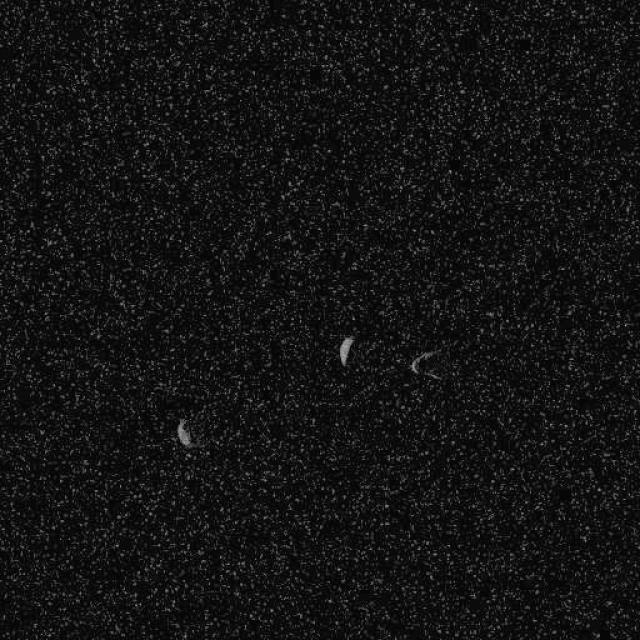D2: (409, 348, 441, 382), (175, 418, 194, 448), (338, 335, 353, 366)
